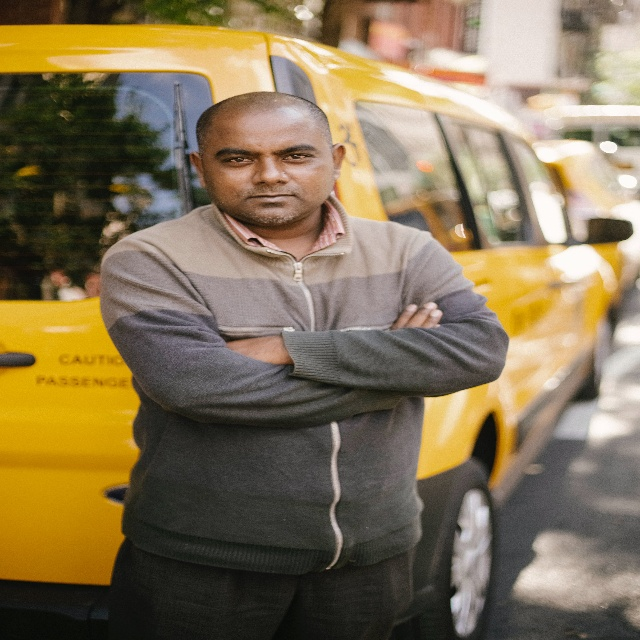Sin_guantes: (226, 334, 285, 366), (390, 300, 442, 329)
